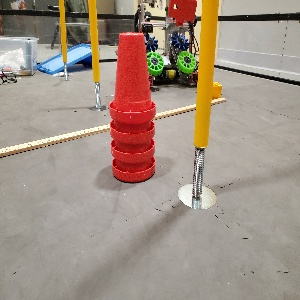Red_4: (108, 30, 155, 182)
